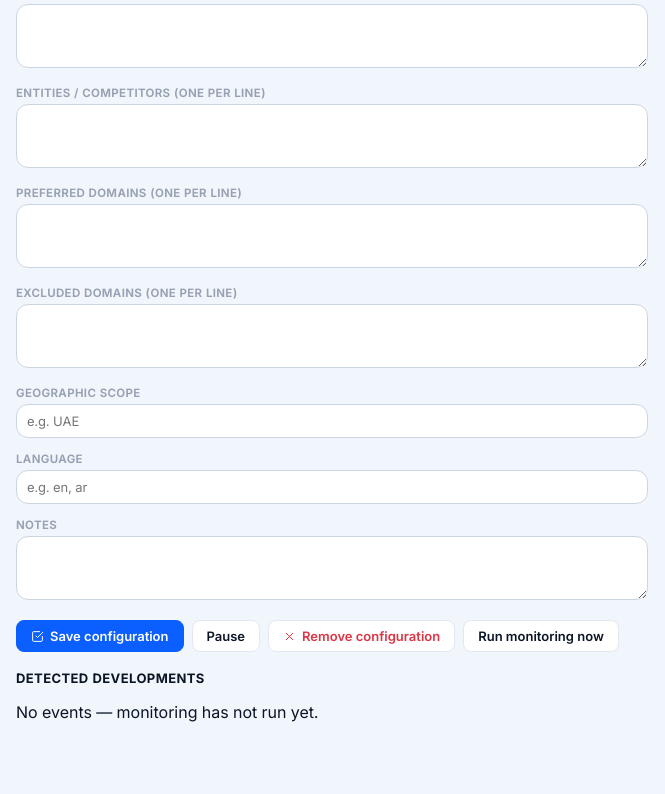
Test: UserMonitoringPanel manual run (Phase R4a) › a failed run shows the honest failure note — no fabricated events
(page scrolled)
Click the button "Run monitoring now".
click(541, 636)  # box [463,620,619,652]
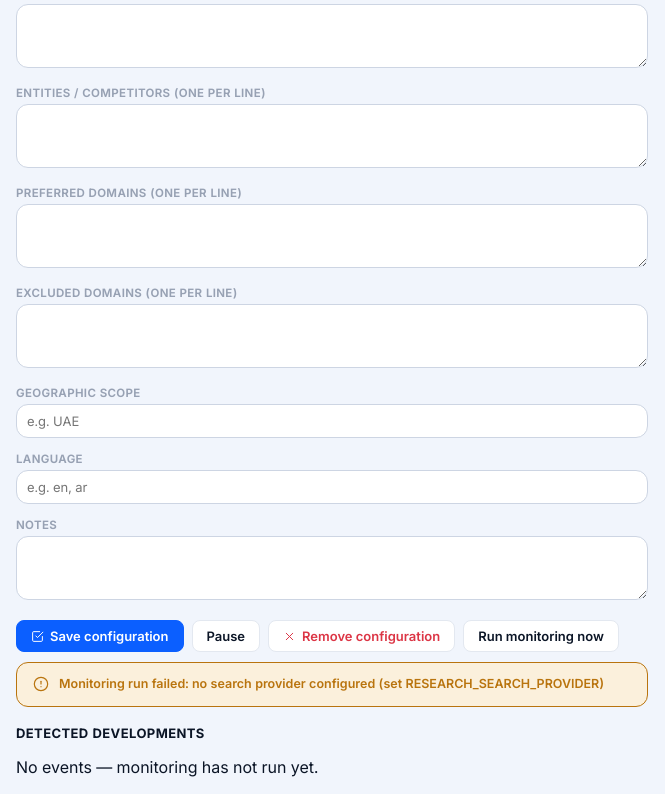
Expected: the element with test id "monitoring-run-note" shows "Monitoring run failed: no search provider configured", [59,676,604,691]
